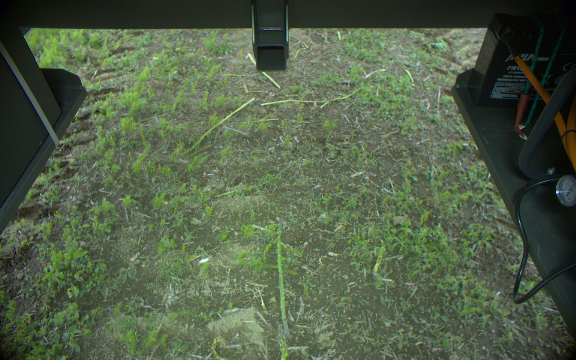aspa: (273, 215, 294, 338), (369, 243, 387, 278)
